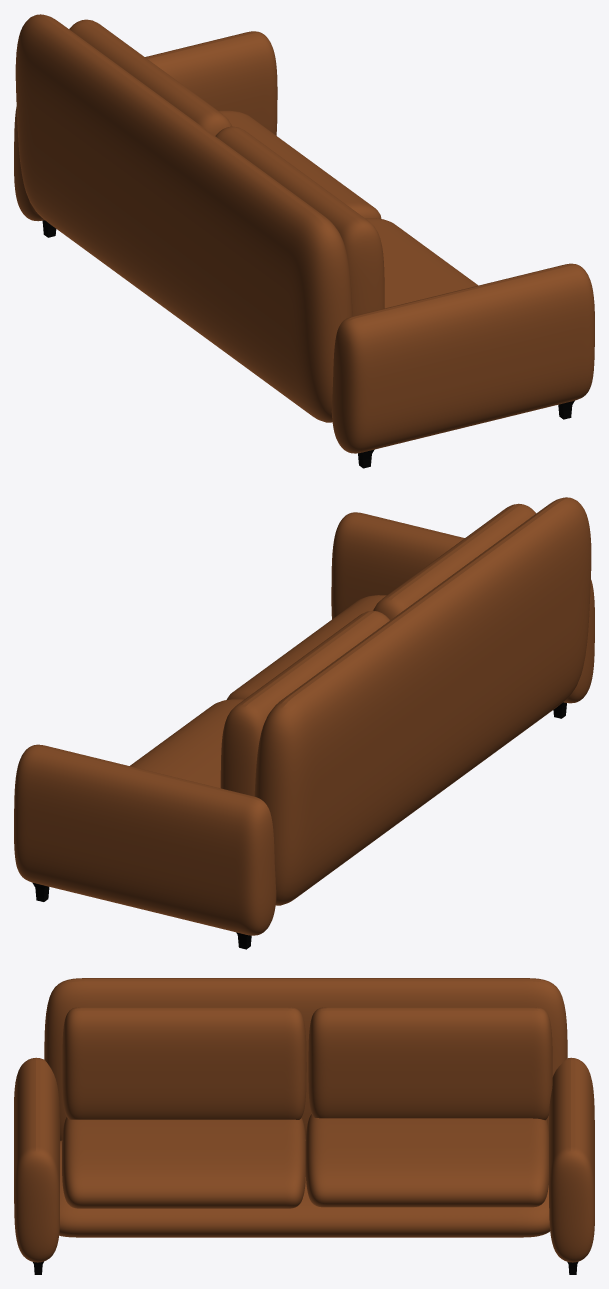
File: COUCH.fbx
3 renders of one model, top to bottom at view 1: azimuth 30°, elevation 25°; view 2: azimuth 150°, elevation 25°; view 3: azimuth 270°, elevation 25°, orthographic. The views are drawn at different scales.
Visible parts, largest first — view 1: Cube.001; view 2: Cube.001; view 3: Cube.001.
Part boxes in pixels (x1=…): Cube.001: x1=14, y1=14, x2=594, y2=468; Cube.001: x1=14, y1=497, x2=594, y2=949; Cube.001: x1=14, y1=978, x2=594, y2=1274.
Size of the model in its own units: 261 by 222 by 580.
